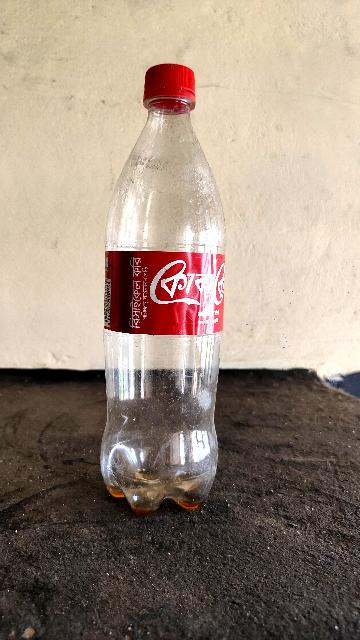bottle: (94, 65, 232, 503)
